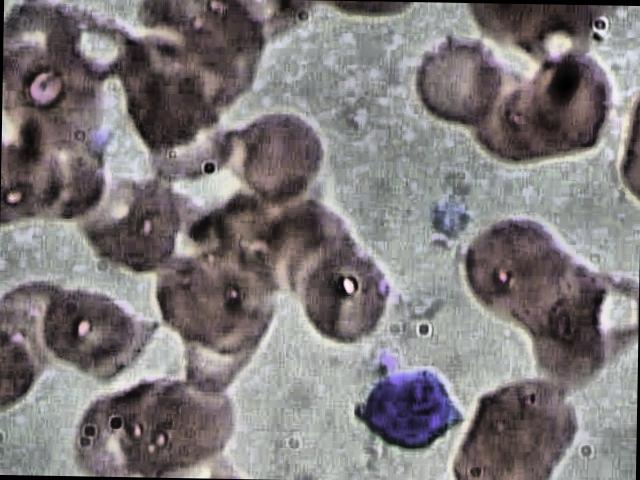Platelets: (419, 191, 479, 238), (81, 124, 117, 158), (370, 344, 404, 376)
RBC: (406, 27, 515, 136), (285, 237, 394, 346), (37, 272, 146, 381), (141, 242, 250, 351), (140, 363, 249, 472), (138, 361, 247, 470), (461, 61, 570, 170), (512, 42, 622, 150), (110, 38, 220, 146), (227, 98, 336, 206), (456, 209, 564, 318), (474, 372, 583, 480), (80, 162, 188, 270), (1, 123, 108, 232), (56, 378, 166, 478), (167, 0, 278, 94), (42, 0, 153, 92), (0, 271, 78, 374), (568, 260, 640, 362)
WBC: (348, 364, 472, 450)
